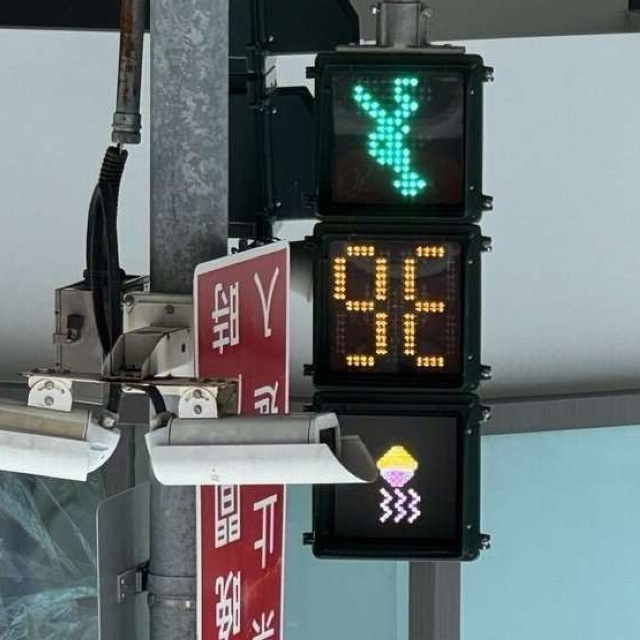green_light: (315, 57, 476, 395)
